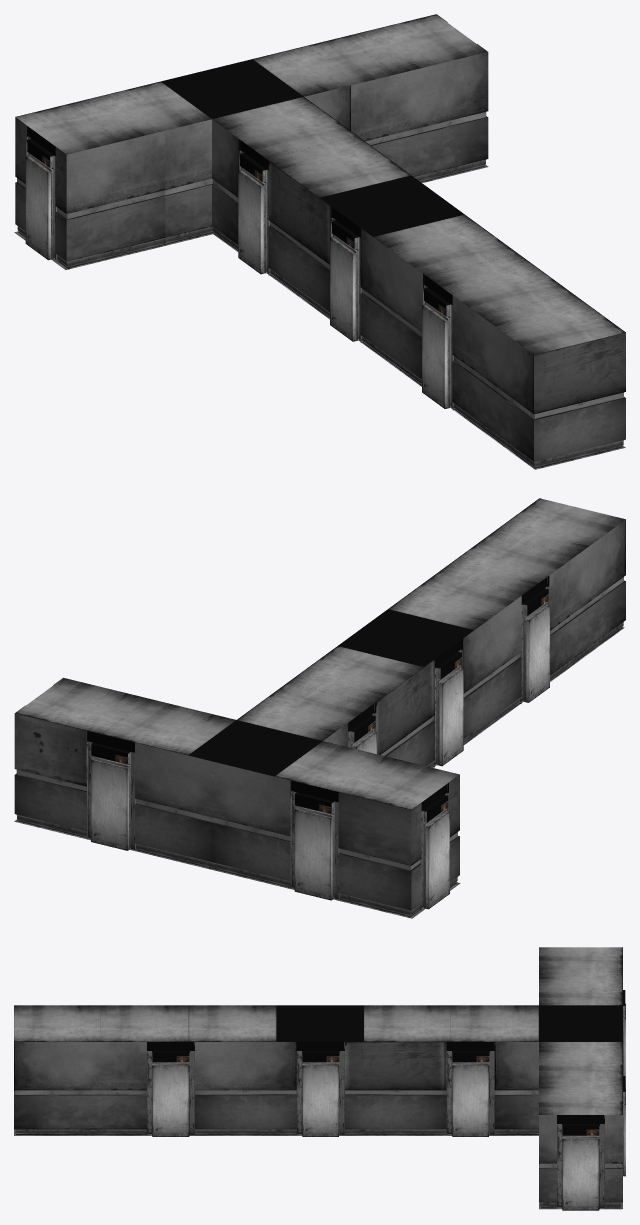
The model's file is SRO.fbx.
3 views of the same model, one above another, from view 1: azimuth 30°, elevation 25°; view 2: azimuth 150°, elevation 25°; view 3: azimuth 270°, elevation 25° (orthographic). The views are drawn at different scales.
Visible parts, largest first — view 1: SRO_walls, SRO_ceiling, SRO_doors, SRO_frames, SRO_floor; view 2: SRO_walls, SRO_ceiling, SRO_doors, SRO_frames, SRO_floor; view 3: SRO_walls, SRO_ceiling, SRO_frames, SRO_doors, tenant's_door, SRO_floor.
Boxes of the visible parts, x1,y1,x2,y2 form: SRO_walls: (15,14,625,468); SRO_ceiling: (15,14,625,354); SRO_doors: (25,156,447,408); SRO_frames: (26,126,454,410); SRO_floor: (14,164,625,469); SRO_walls: (14,519,625,916); SRO_ceiling: (16,498,625,809); SRO_doors: (91,604,549,909); SRO_frames: (25,576,549,910); SRO_floor: (14,627,624,918); SRO_walls: (14,1042,622,1208); SRO_ceiling: (14,947,622,1114); SRO_frames: (147,990,625,1208); SRO_doors: (152,1003,625,1176); tenant's_door: (562,1138,599,1210); SRO_floor: (14,1099,622,1209).
Bounding box in the file's own units: 1194 × 306 × 1809.
